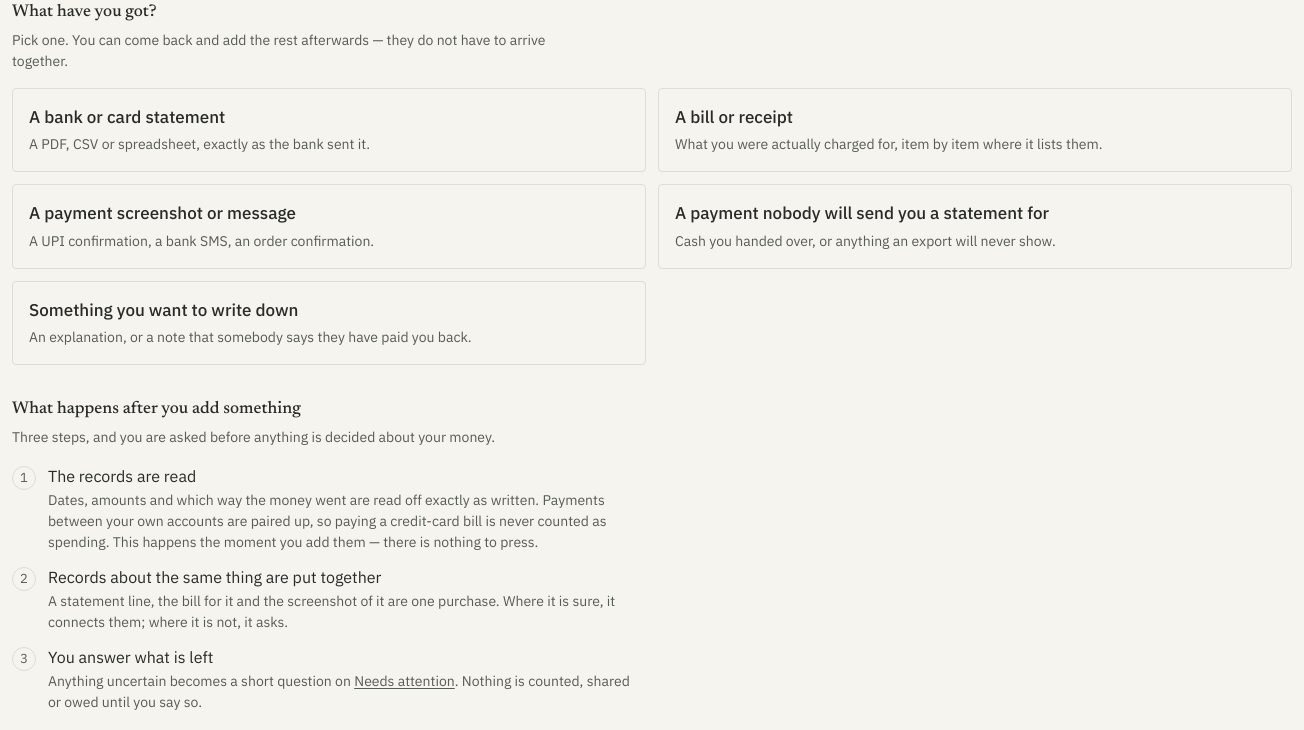
Test case: Add records › shows only one form at a time
Click the button "A bank or card statement".
click(127, 116)  # box [12,88,646,172]
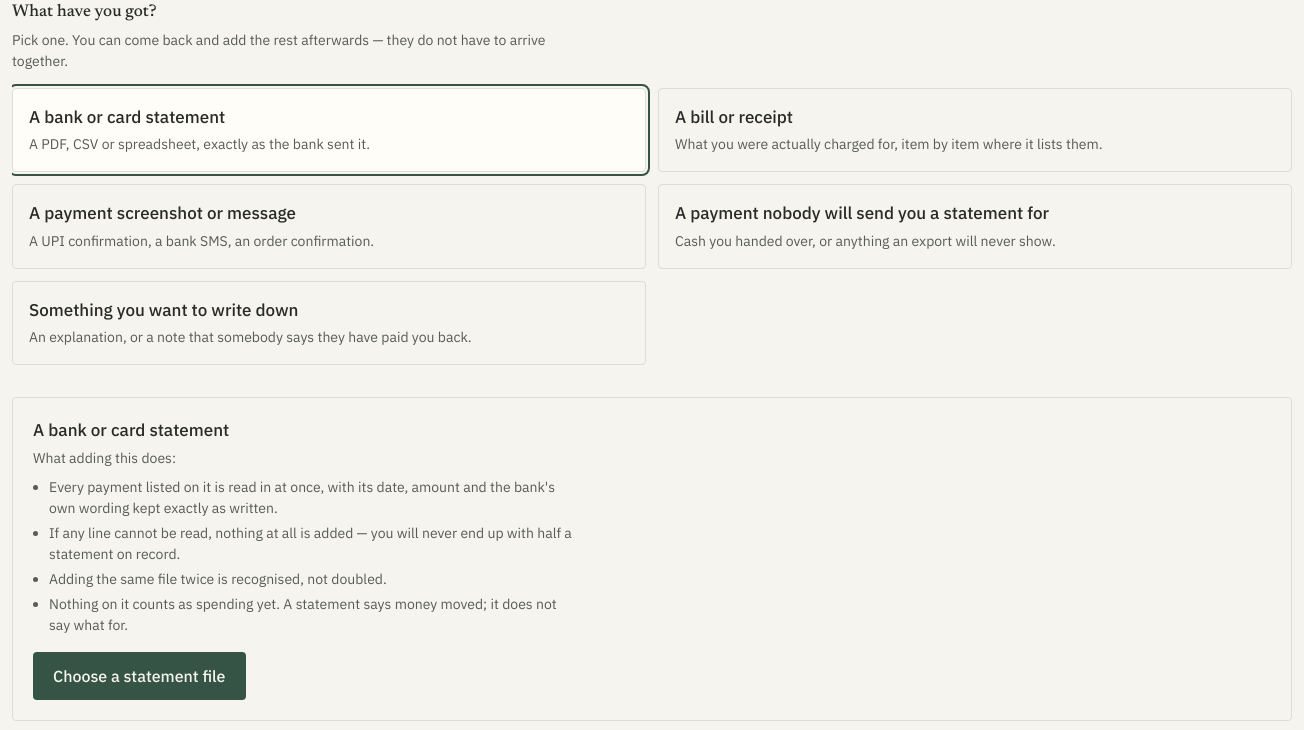
Click the button "A bill or receipt".
click(734, 116)  # box [658,88,1292,172]
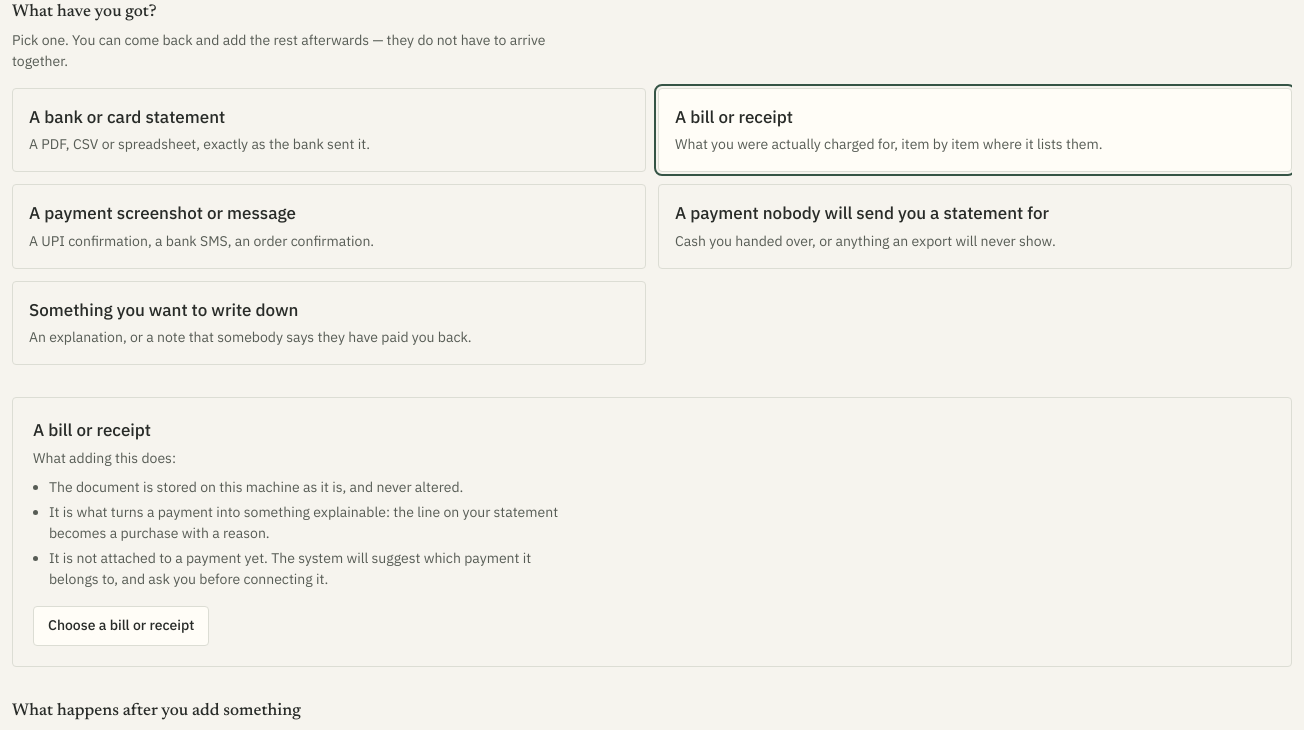
Expected: the button "Choose a bill or receipt" is shown, [33,606,209,646]
Expected: the button "Choose a statement file" is gone
